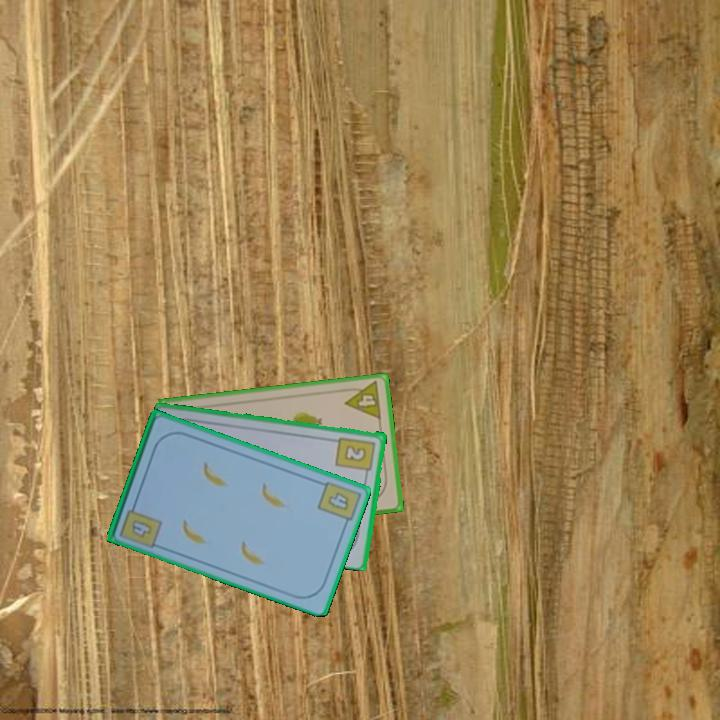2b: (333, 433, 378, 479)
4b: (314, 477, 362, 530), (128, 516, 155, 540)
4p: (340, 378, 384, 422)
